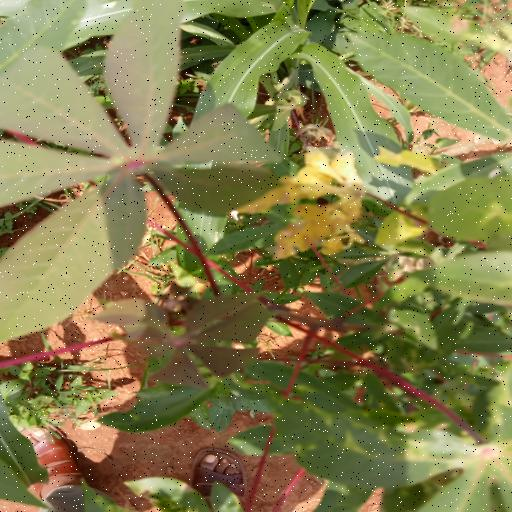Cassava_Healthy: (4, 6, 280, 341)
